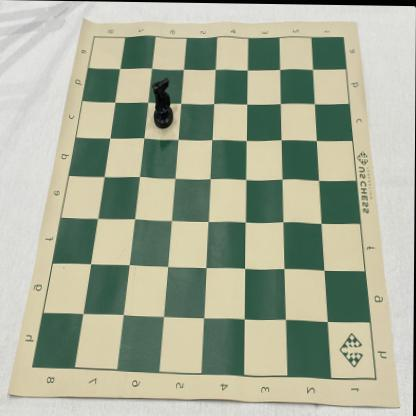black-knight: (152, 76, 175, 130)
